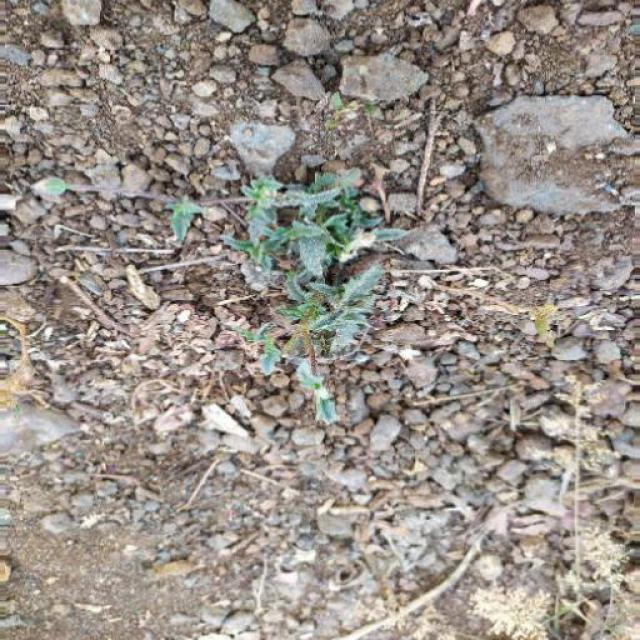weed: (165, 140, 400, 464)
